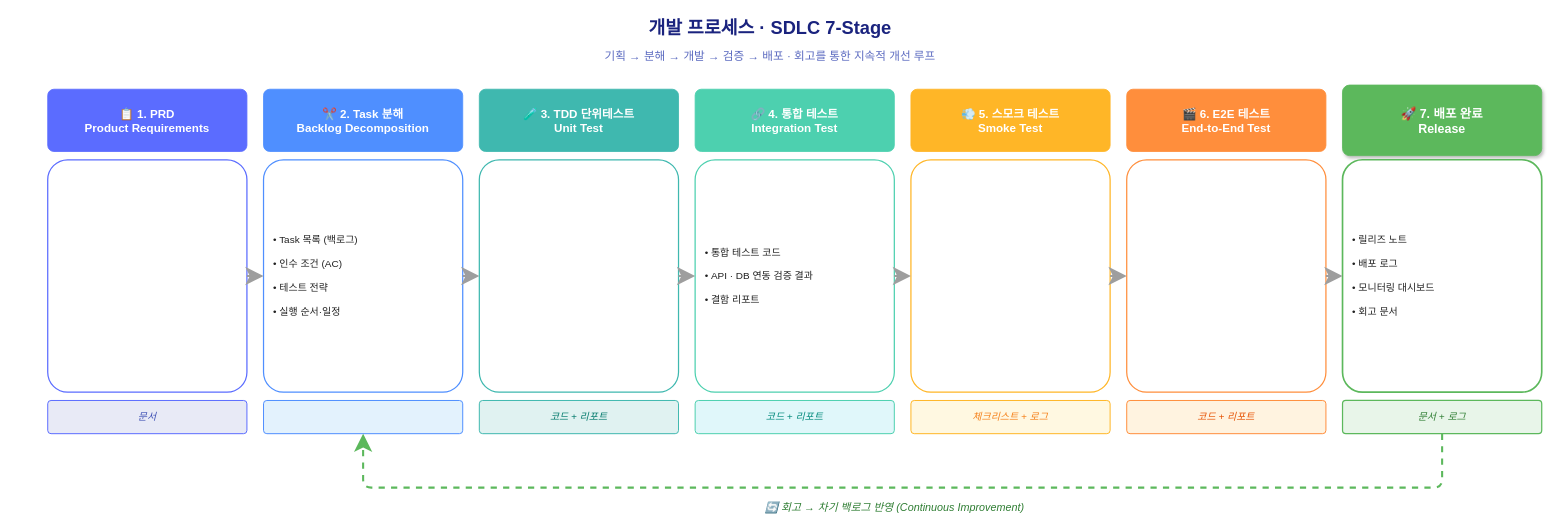
Image size: 1561x530. Some labels were removed from this diagram. The shapes that lost their labels are listed below. From the top down, each one's centre as x and y in pixels, then its label:
point (147, 275): • 기능·비기능 요구사항 • 완료 조건 (DoD) • 범위 정의
point (578, 275): • 단위 테스트 코드 • 구현 코드 • 리팩터링된 소스 • 테스트 커버리지 리포트
point (1010, 275): • 핵심 경로 체크리스트 • 스테이징 배포 확인 결과 • 롤백 판단 기록
point (1226, 275): • E2E 시나리오 스크립트 • 실행 결과 리포트 • 스크린샷·영상 • 회귀 결함 목록
point (363, 417): 문서 + 티켓
